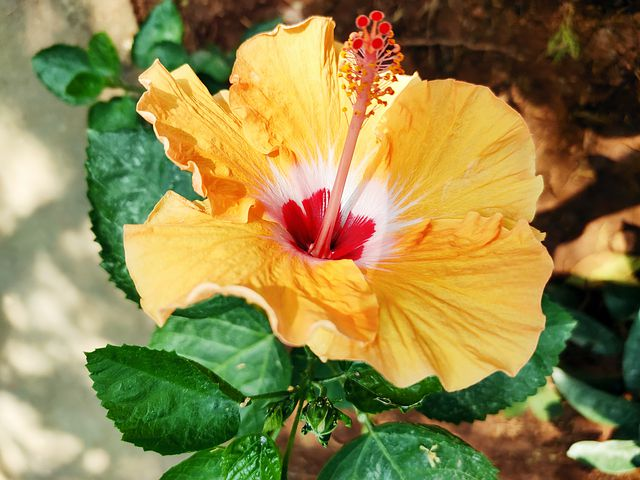Hibiscus: (116, 3, 578, 405)
